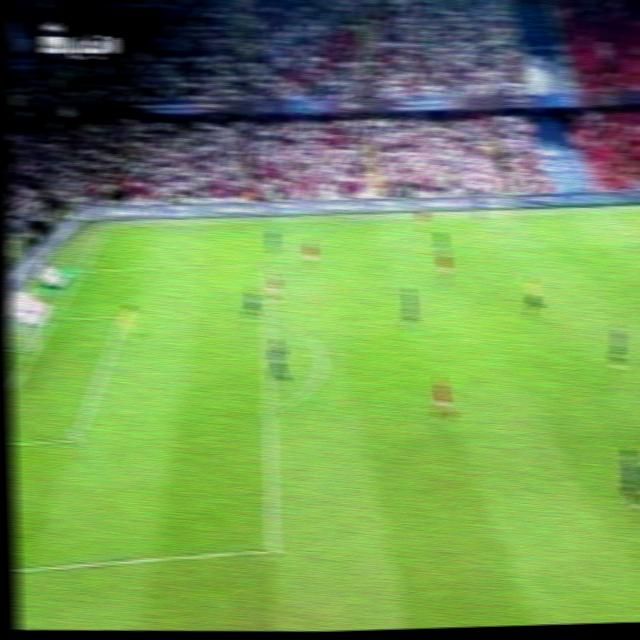bigarea_bottom_inner: (261, 539, 284, 559)
bigarea_top_inner: (256, 260, 274, 270)
bigarea_top_outter: (76, 265, 90, 275)
bottom_arc_area_intersection: (262, 404, 281, 418)
corner: (99, 221, 114, 234)
smallarea_bottom_inner: (68, 428, 85, 446)
smallarea_top_outter: (48, 310, 64, 325)
top_arc_area_intersection: (258, 313, 276, 328)
